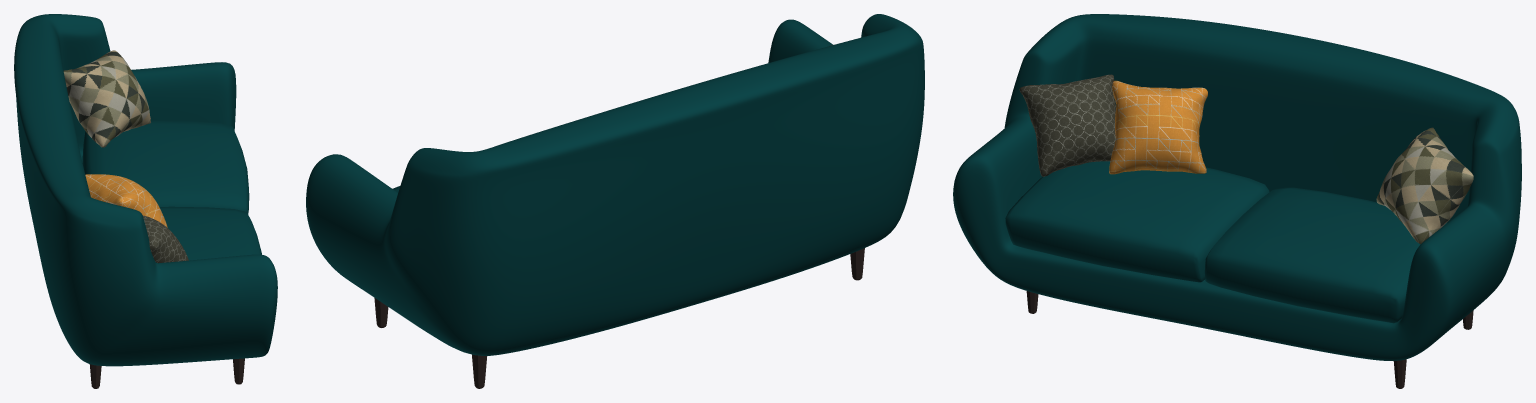
Rendered from sofa.fbx.
The picture shows the model from 3 angles, left to right: view 1: azimuth 30°, elevation 25°; view 2: azimuth 150°, elevation 25°; view 3: azimuth 270°, elevation 25°; orthographic projection. The views are drawn at different scales.
Parts seen in each view (by area): view 1: Plane.002, Cube.022, Plane.012, Cube.021, Plane.013, Plane.011, Cube.027, Cube.025; view 2: Plane.002; view 3: Plane.002, Cube.021, Cube.022, Plane.013, Plane.011, Plane.012.
Boxes of the visible parts, box(x1,y1,x2,y2) form: Plane.002: box(14, 14, 277, 366); Cube.022: box(82, 120, 249, 214); Plane.012: box(63, 50, 150, 147); Cube.021: box(159, 206, 261, 260); Plane.013: box(85, 174, 167, 227); Plane.011: box(142, 215, 188, 263); Cube.027: box(233, 358, 244, 384); Cube.025: box(89, 364, 101, 388); Plane.002: box(306, 14, 924, 355); Plane.002: box(953, 14, 1521, 360); Cube.021: box(1005, 161, 1269, 282); Cube.022: box(1204, 187, 1447, 323); Plane.013: box(1109, 80, 1207, 174); Plane.011: box(1019, 74, 1116, 176); Plane.012: box(1376, 127, 1473, 244).
Size of the model in its own units: 413 by 251 by 558.
